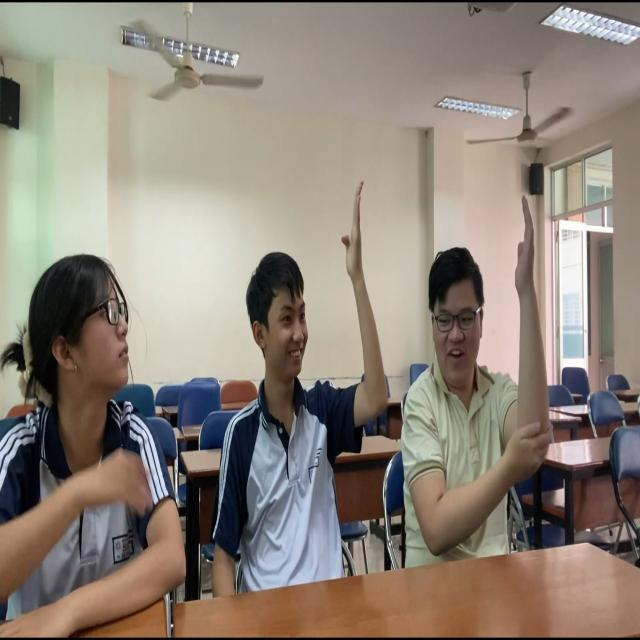raise_hand: (238, 172, 389, 613), (405, 185, 554, 561)
